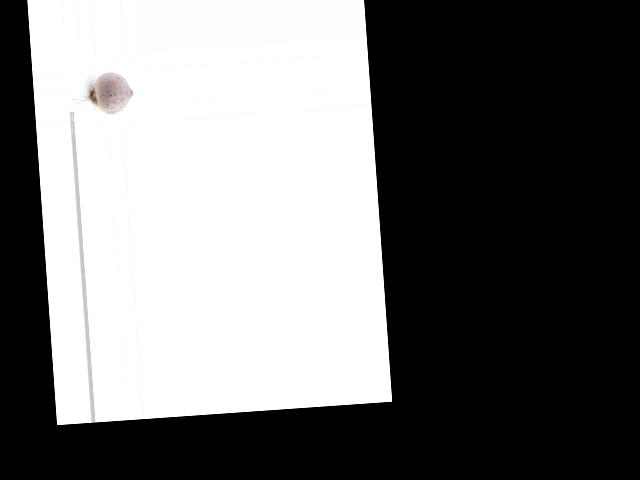beet: (69, 71, 134, 117)
